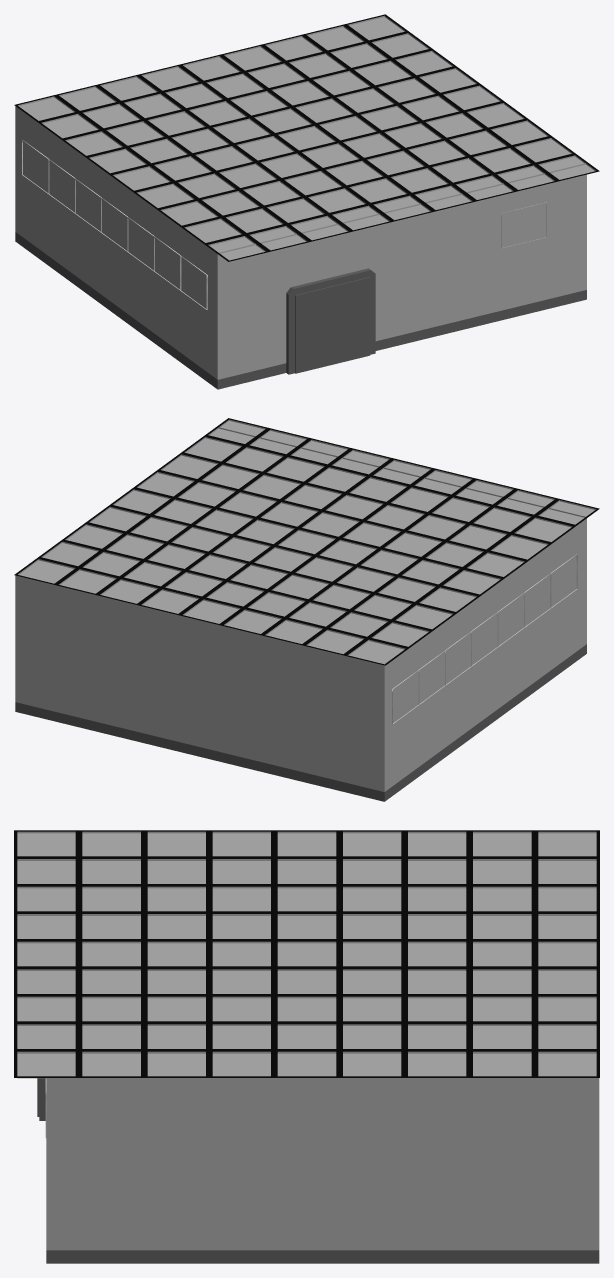
Rendered from lab.fbx.
3 views of the same model, one above another, from view 1: azimuth 30°, elevation 25°; view 2: azimuth 150°, elevation 25°; view 3: azimuth 270°, elevation 25° (orthographic). The views are drawn at different scales.
Parts seen in each view (by area): view 1: Cube.008, Cube.001, Cube, Cube.002; view 2: Cube.001, Cube.008, Cube.002; view 3: Cube.008, Cube.001.
Boxes of the visible parts, x1,y1,x2,y2 form: Cube.008: (14, 14, 599, 261); Cube.001: (15, 106, 586, 389); Cube: (286, 268, 375, 374); Cube.002: (22, 140, 181, 290); Cube.001: (15, 427, 586, 801); Cube.008: (14, 418, 599, 665); Cube.002: (392, 573, 551, 724); Cube.008: (14, 830, 599, 1078); Cube.001: (46, 1078, 599, 1263).
Size of the model in its own units: 996 by 350 by 996.
10 materials, 5 textured.
